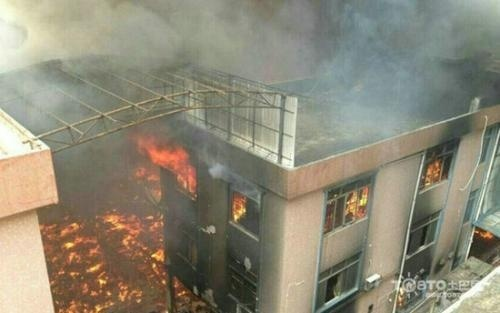fire: (47, 141, 201, 306), (143, 142, 196, 192), (423, 156, 442, 183), (231, 193, 247, 221)
